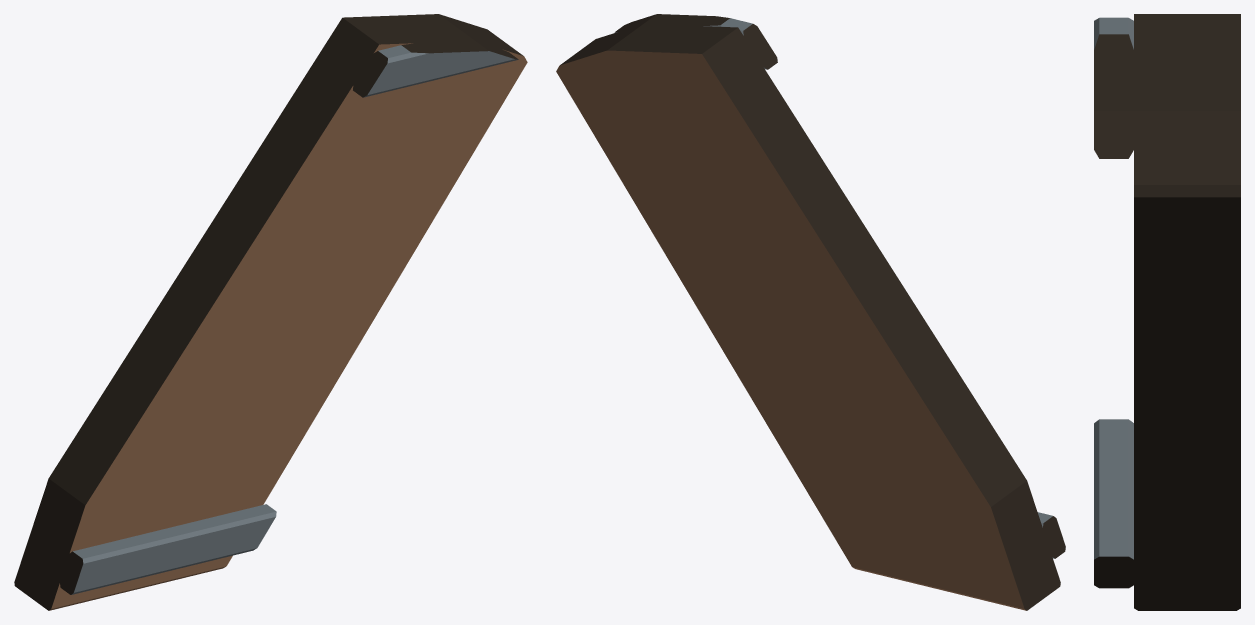
The model's file is SM_DoorShard_03_39.fbx.
3 renders of one model, left to right at view 1: azimuth 30°, elevation 25°; view 2: azimuth 150°, elevation 25°; view 3: azimuth 270°, elevation 25°, orthographic. The views are drawn at different scales.
Visible parts, largest first — view 1: SM_DoorShard_03_39; view 2: SM_DoorShard_03_39; view 3: SM_DoorShard_03_39.
Boxes of the visible parts, x1=… form: SM_DoorShard_03_39: x1=14, y1=14, x2=527, y2=610; SM_DoorShard_03_39: x1=556, y1=14, x2=1065, y2=610; SM_DoorShard_03_39: x1=1094, y1=14, x2=1240, y2=610.
Size of the model in its own units: 120 by 22 by 117.
